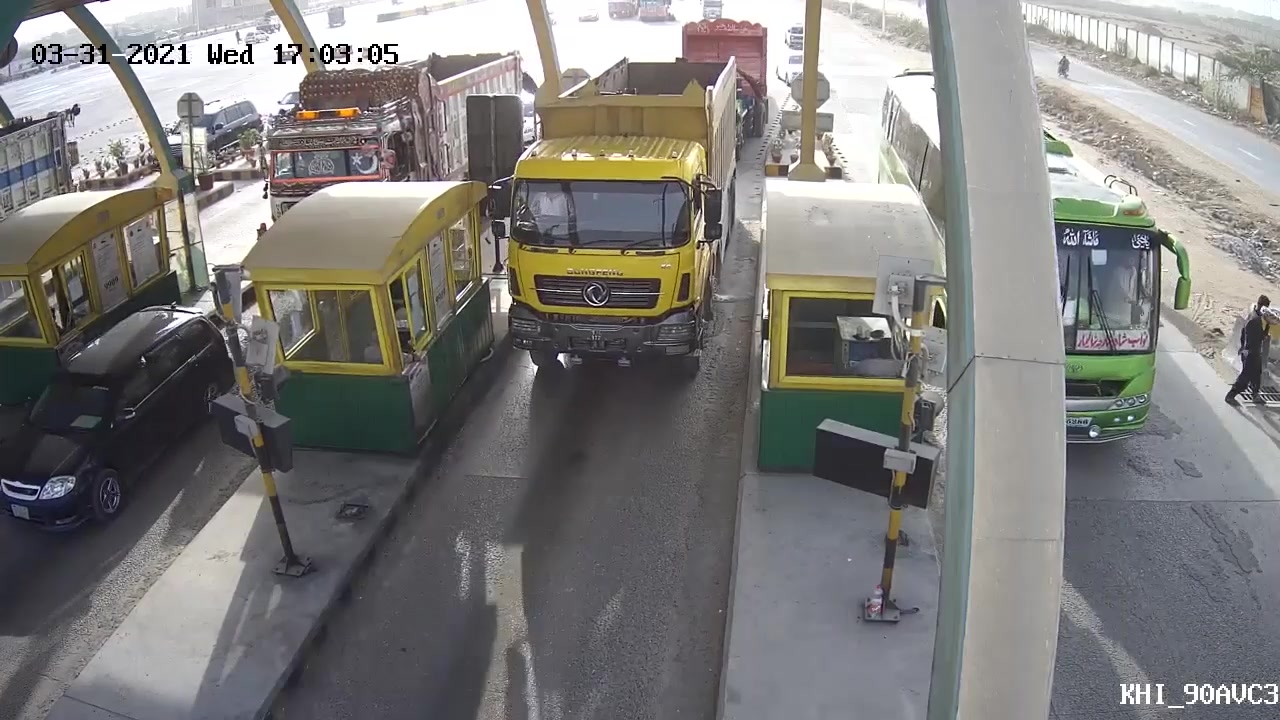F5: (495, 55, 743, 384)
